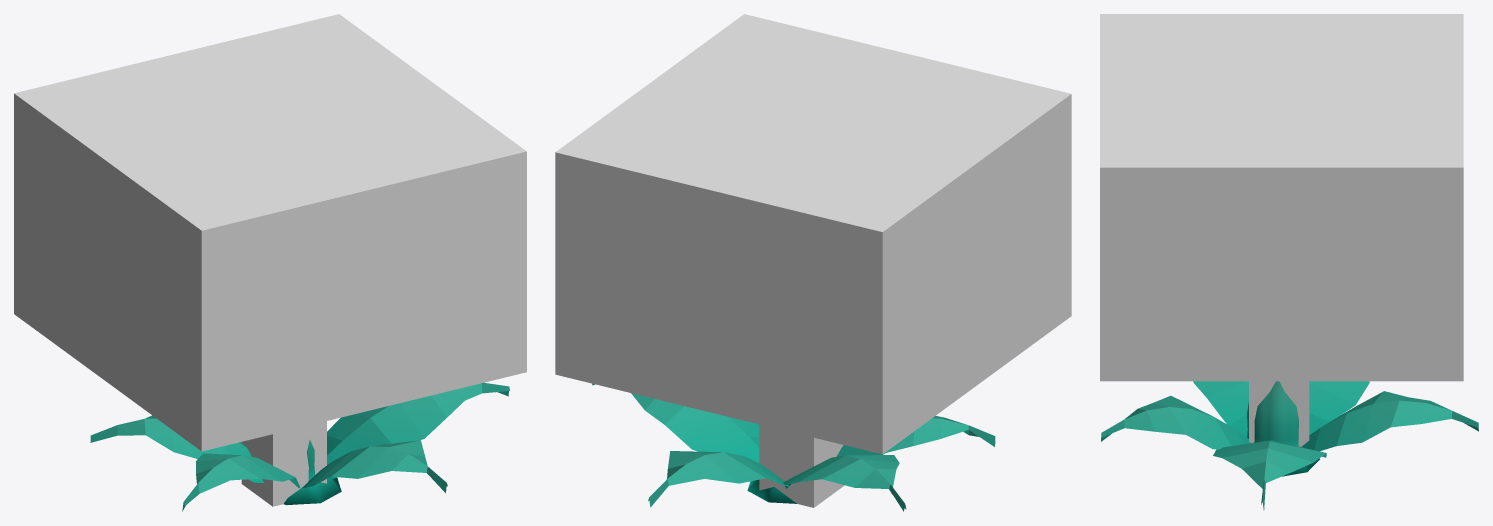
The model's file is Plant_Collector_04.fbx.
3 renders of one model, left to right at view 1: azimuth 30°, elevation 25°; view 2: azimuth 150°, elevation 25°; view 3: azimuth 270°, elevation 25°, orthographic. The views are drawn at different scales.
Visible parts, largest first — view 1: INTERACT_04, Plant_Collector_04, COL_04_0; view 2: INTERACT_04, Plant_Collector_04, COL_04_0; view 3: INTERACT_04, Plant_Collector_04, COL_04_0.
Part boxes in pixels (x1,y1,x2,y2): INTERACT_04: (14,14,526,451); Plant_Collector_04: (90,382,509,511); COL_04_0: (241,421,326,506); INTERACT_04: (555,14,1071,454); Plant_Collector_04: (592,383,995,511); COL_04_0: (759,424,844,507); INTERACT_04: (1100,14,1463,381); Plant_Collector_04: (1101,381,1478,510); COL_04_0: (1249,381,1309,446).
Size of the model in its own units: 2.89 by 2.6 by 2.5.
